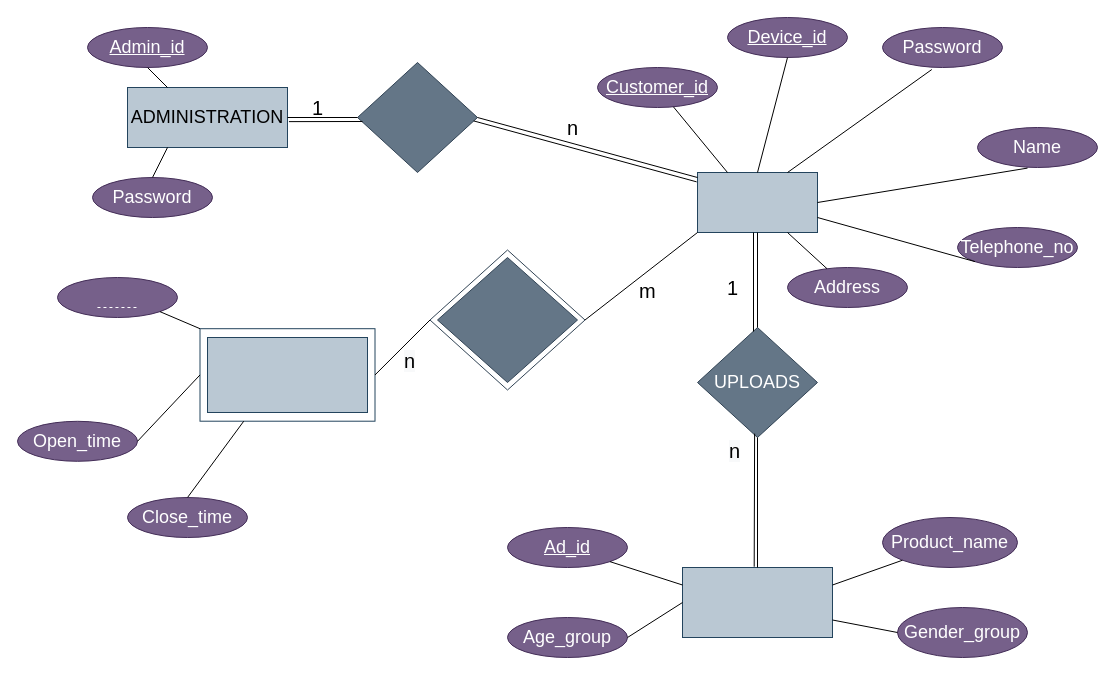
Image size: 1115x675. Some labels were removed from this diagram. The shapes that lost their labels are listed below. From the top down, each one's centre as x and y in pixels, then its label:
the point at 417,117: MANAGES
the point at 757,202: CUSTOMER
the point at 117,297: Day
the point at 507,319: SCHEDULES
the point at 287,374: WORKING_TIME
the point at 757,602: ADVERISEMENT
